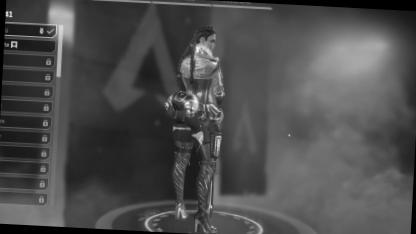Target: (164, 25, 226, 201)
